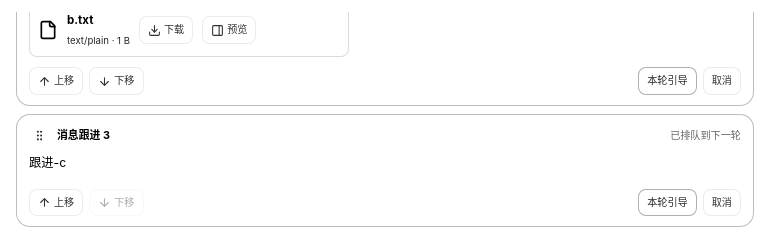
Test: FollowUpQueue › 支持上移和拖动排序，文字与附件保持绑定
(page scrolled)
Click the button with aria-label "上移消息跟进 2".
click(56, 81)  # box [29,67,83,95]
(page scrolled)
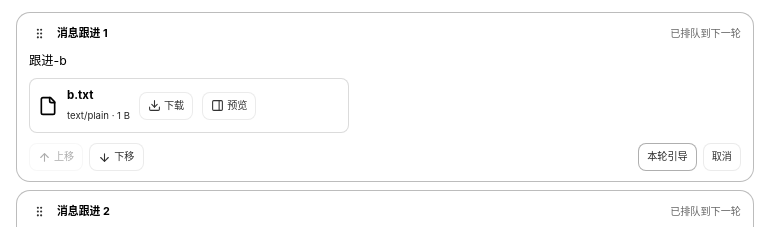
Expected: the element named "消息跟进 1" shows "b.txt", [67,88,93,102]
Now the element named "消息跟进 1" shows "跟进-b", box [29,53,67,68]
